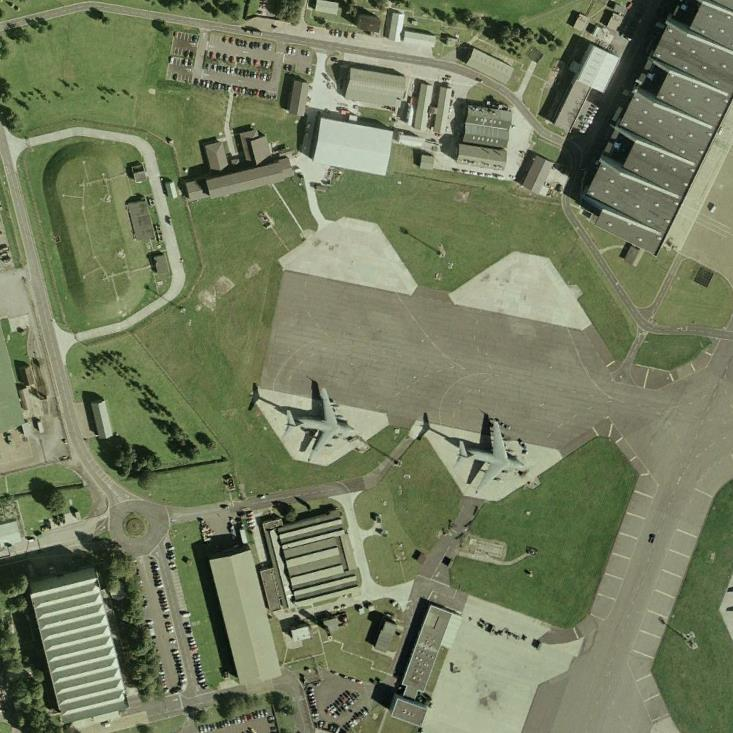A3: (279, 382, 357, 467), (455, 417, 530, 497)
